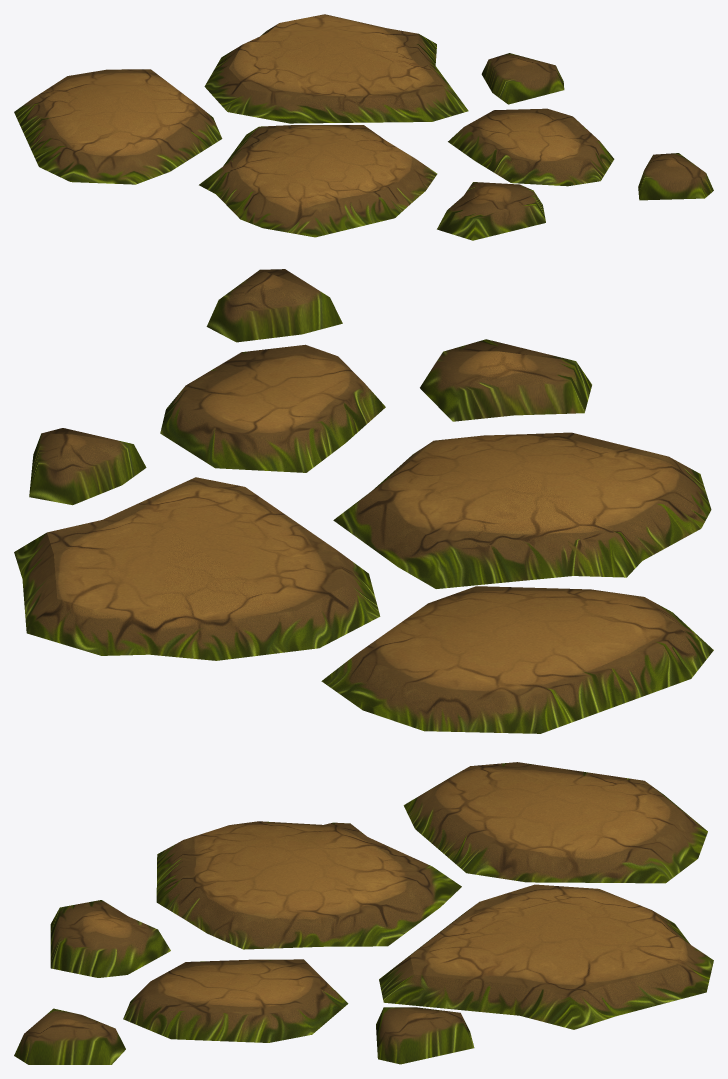
File: SteppingStoneCluster4.obj
3 views of the same model, one above another, from view 1: azimuth 30°, elevation 25°; view 2: azimuth 150°, elevation 25°; view 3: azimuth 270°, elevation 25° (orthographic). The views are drawn at different scales.
Visible parts, largest first — view 1: Mesh; view 2: Mesh; view 3: Mesh.
Boxes of the visible parts, x1=… form: Mesh: x1=14, y1=14, x2=713, y2=240; Mesh: x1=14, y1=269, x2=713, y2=733; Mesh: x1=14, y1=762, x2=713, y2=1064.
Bounding box in the file's own units: 3.33 × 0.2018 × 3.37.
